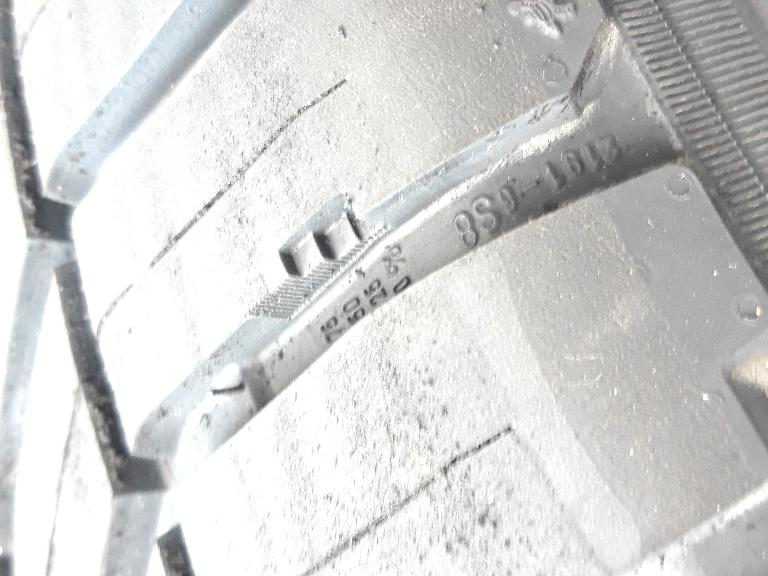temoin:75: (254, 188, 397, 303)
